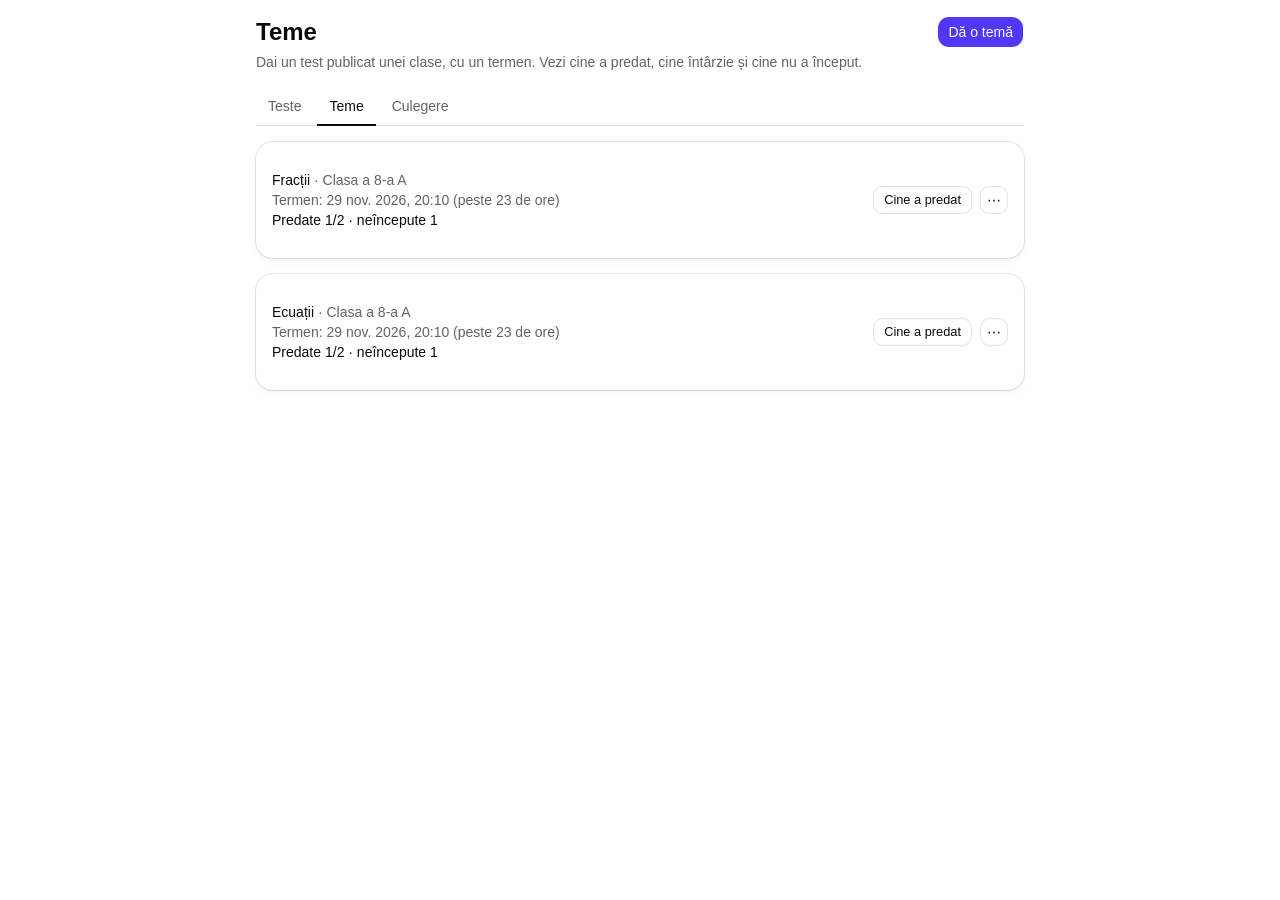
Test: AdminAssignmentsPage › names every class the homework went to
The image size is (1280, 900).
Click the button with test id "assignment-new".
click(981, 32)  # box [937,16,1024,48]
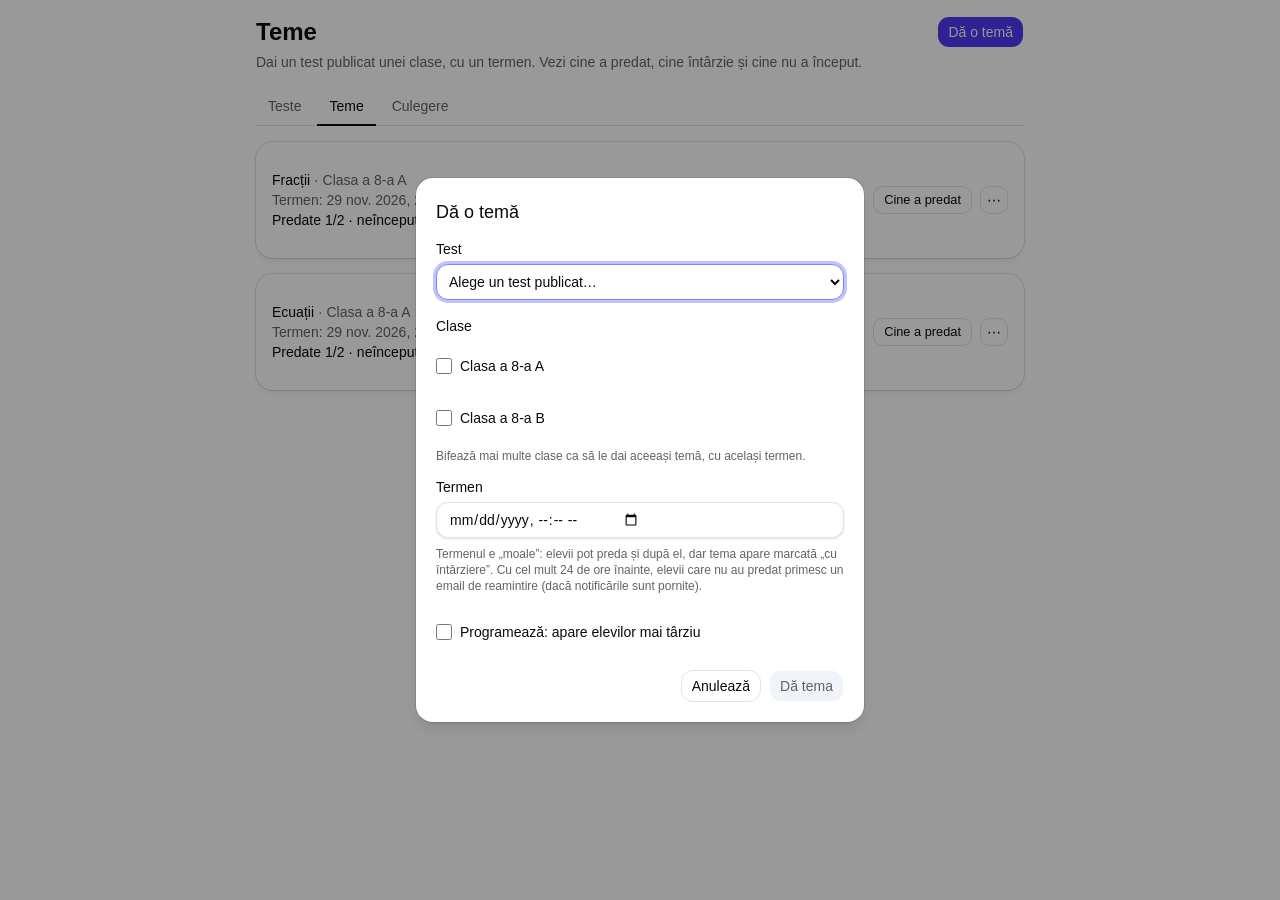
Select "Procente" in the dropdown labelled "Test" at (640, 282), box [436,264,844,300]
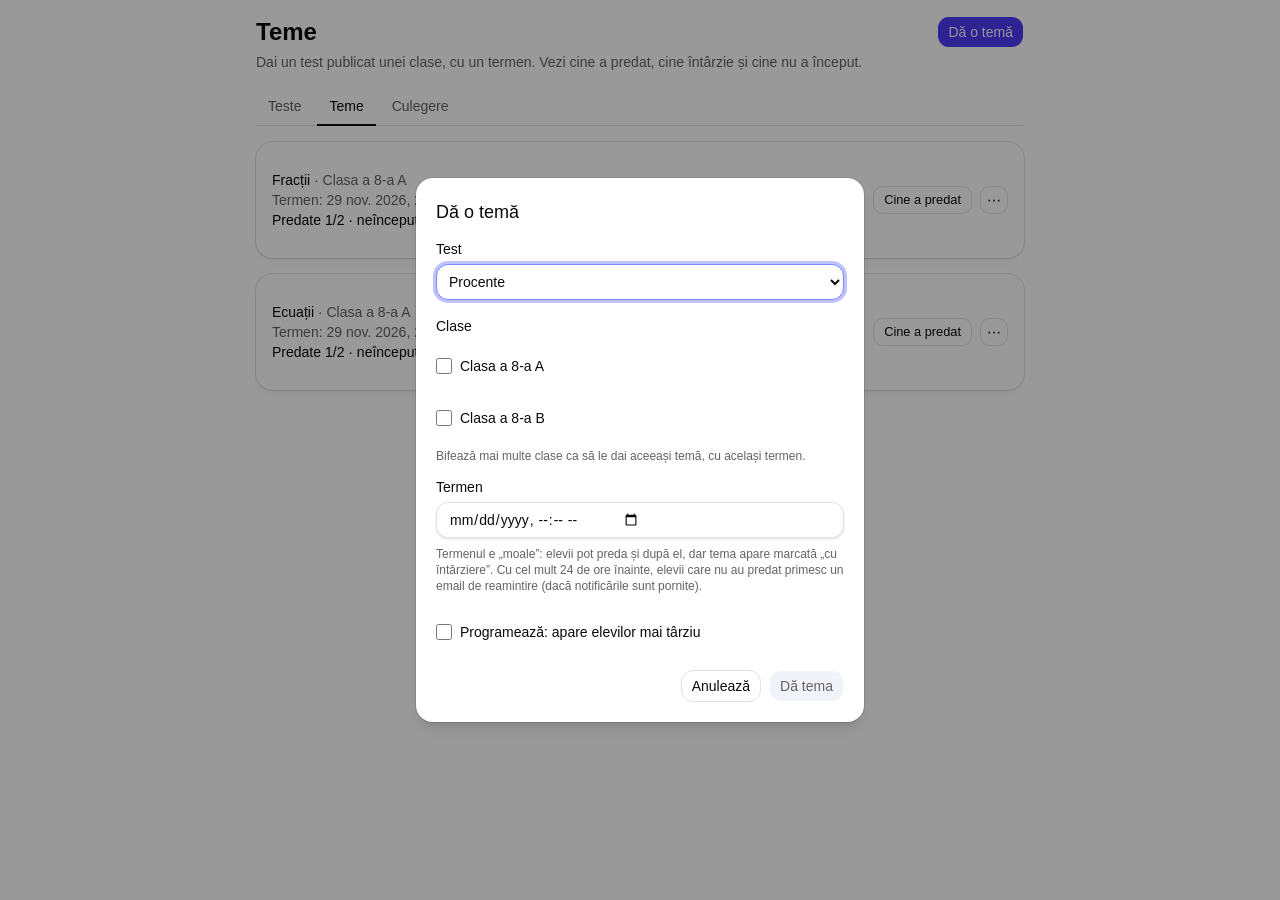
Click the checkbox labelled "Clasa a 8-a A".
click(444, 366)  # box [436,358,452,374]
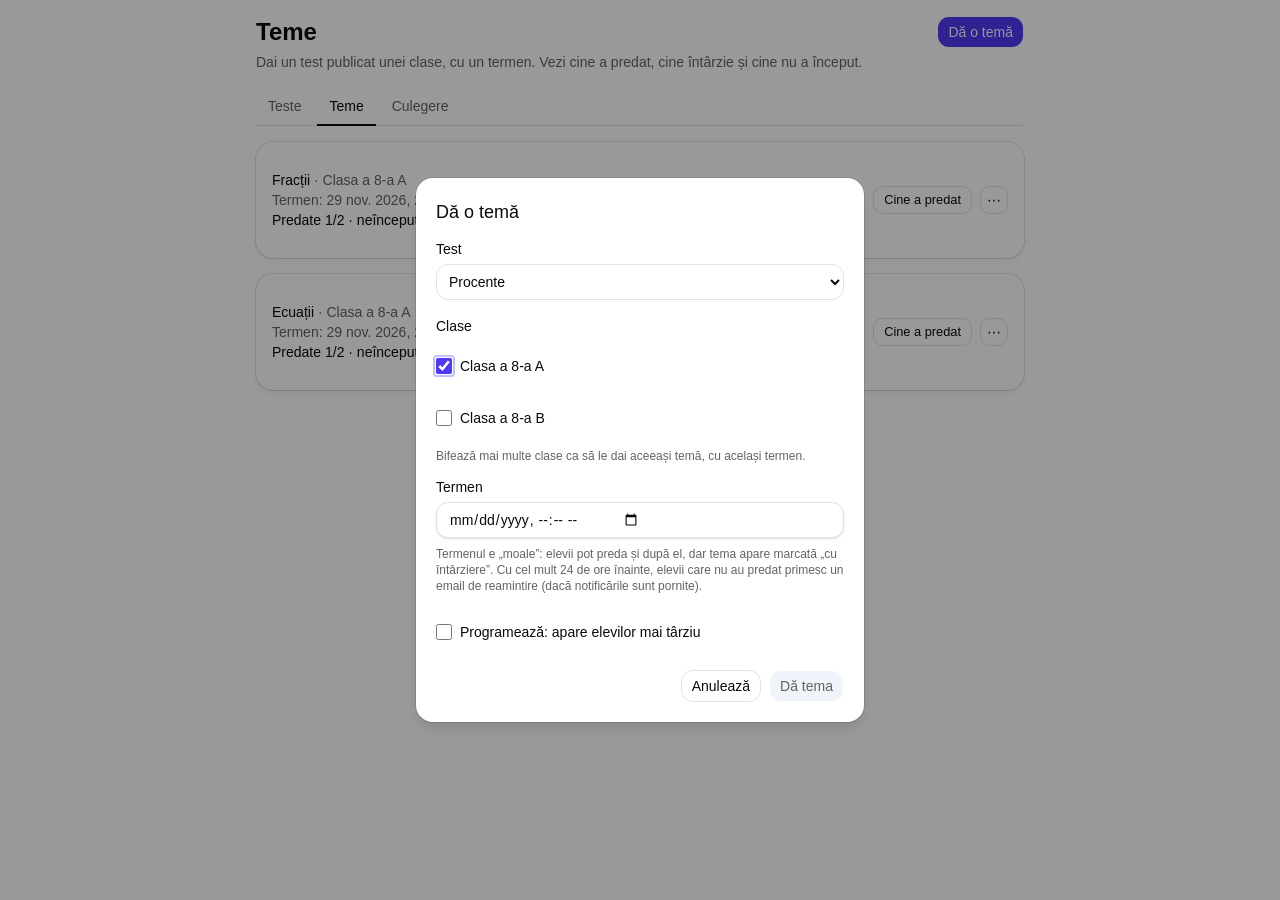
Click the checkbox labelled "Clasa a 8-a B".
click(444, 418)  # box [436,410,452,426]
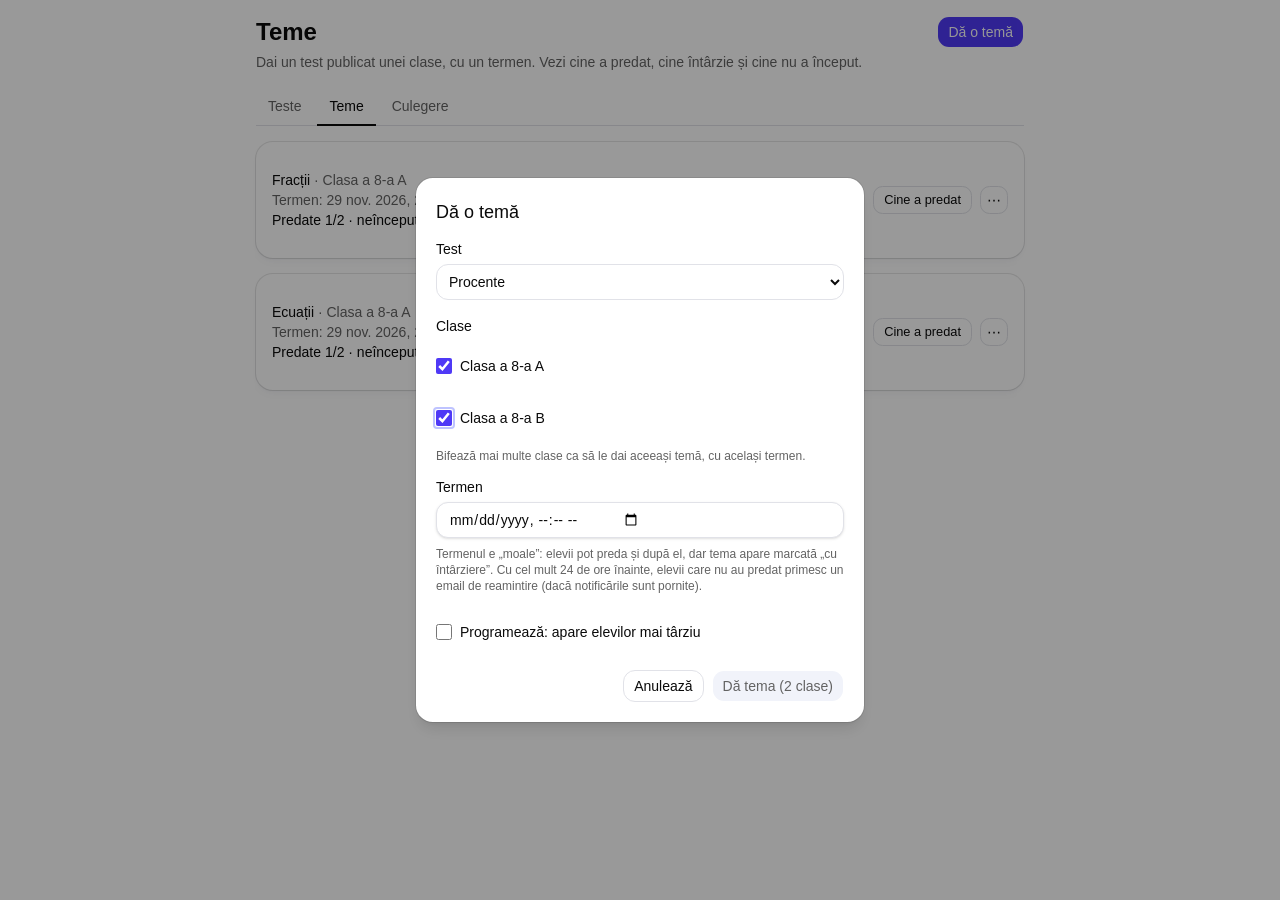
Type "2099-01-15T20:00" into the field labelled "Termen".
click(640, 520); type("2099-01-15T20:00")  # box [436,502,844,538]
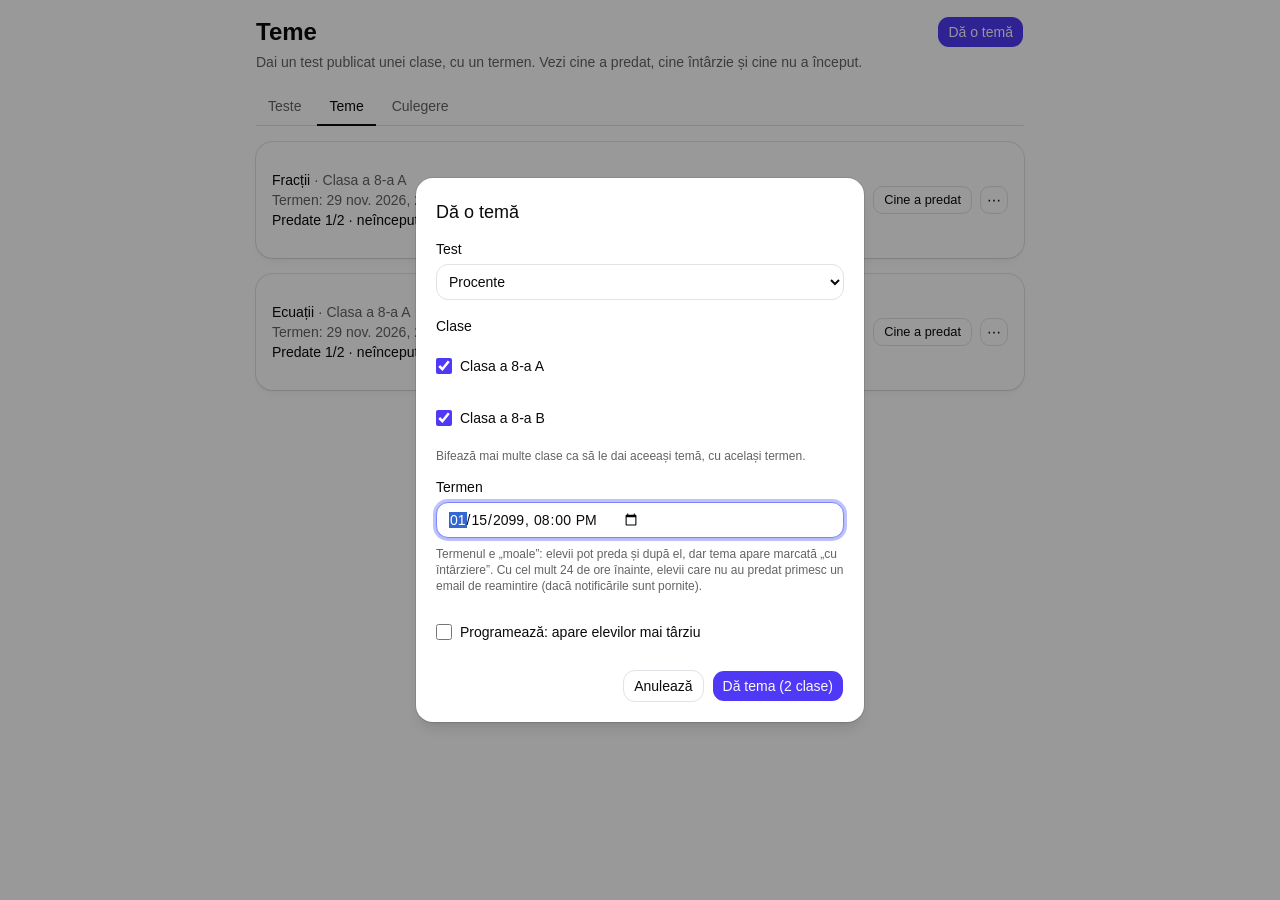
Click the button "Dă tema (2 clase)".
click(778, 686)  # box [712,670,844,702]
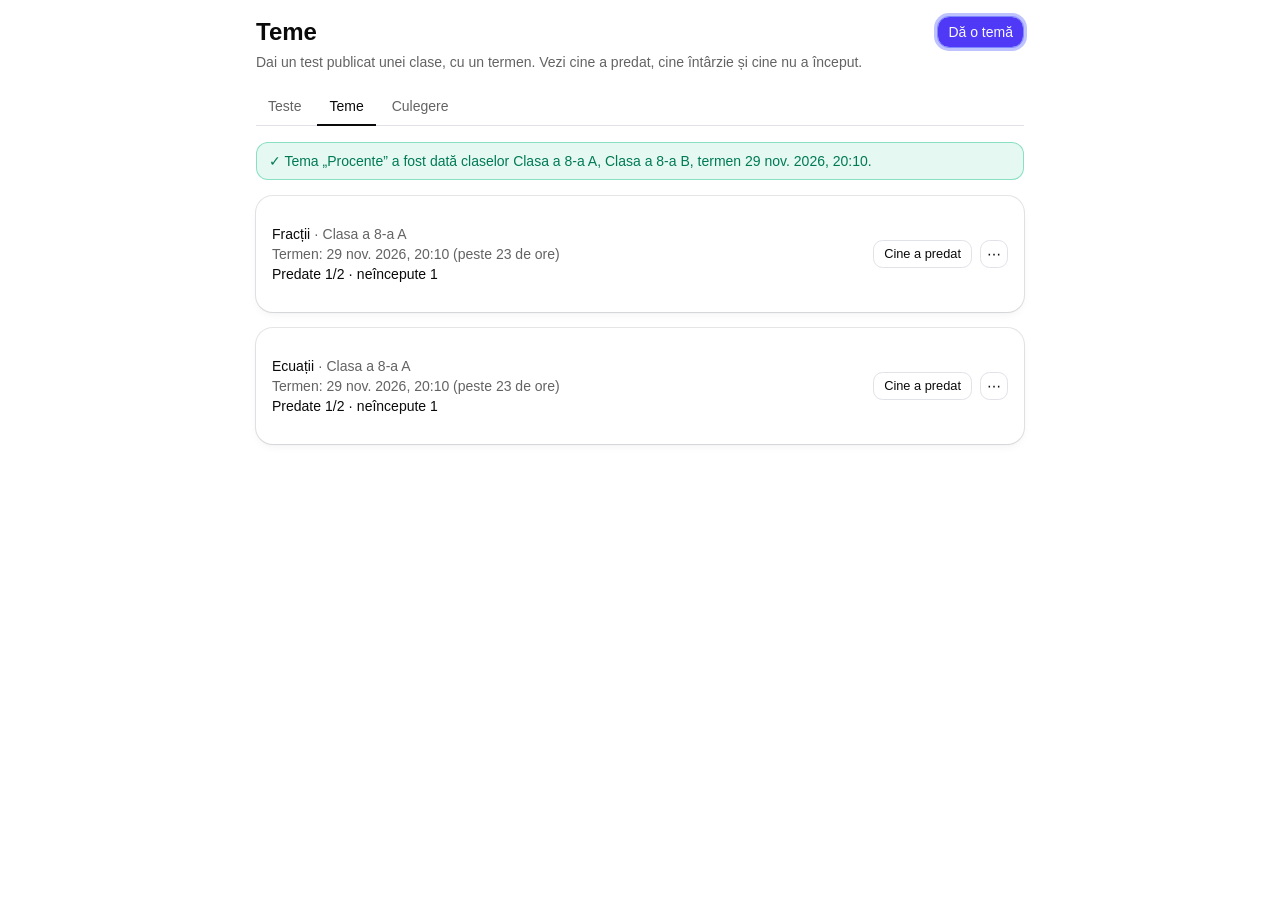
Check: the text "a fost dată claselor Clasa a 8-a A, Clasa a 8-a B" is shown, box [284,153,872,169]
